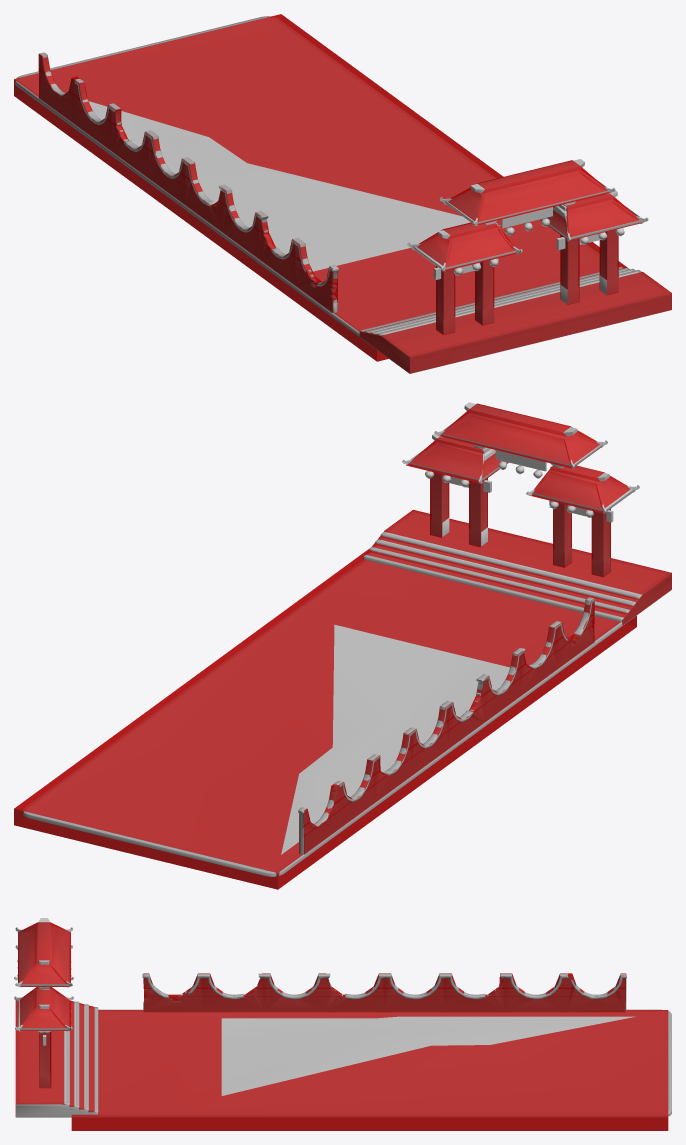
The model's file is CT_MainSquare.dae.
3 renders of one model, top to bottom at view 1: azimuth 30°, elevation 25°; view 2: azimuth 150°, elevation 25°; view 3: azimuth 270°, elevation 25°, orthographic. The views are drawn at different scales.
Visible parts, largest first — view 1: MainSquare2000, colmesh-2, MainSquare1000; view 2: MainSquare2000, colmesh-2, MainSquare1000; view 3: colmesh-2, MainSquare2000, MainSquare1000.
Part boxes in pixels (x1,y1,x2,y2): MainSquare2000: (15, 16, 671, 373); colmesh-2: (14, 14, 671, 373); MainSquare1000: (16, 17, 668, 371); MainSquare2000: (23, 402, 671, 876); colmesh-2: (14, 403, 671, 889); MainSquare1000: (23, 403, 659, 876); colmesh-2: (15, 922, 668, 1130); MainSquare2000: (14, 918, 671, 1117); MainSquare1000: (14, 918, 671, 1117).
Size of the model in its own units: 134 by 79.88 by 346.
